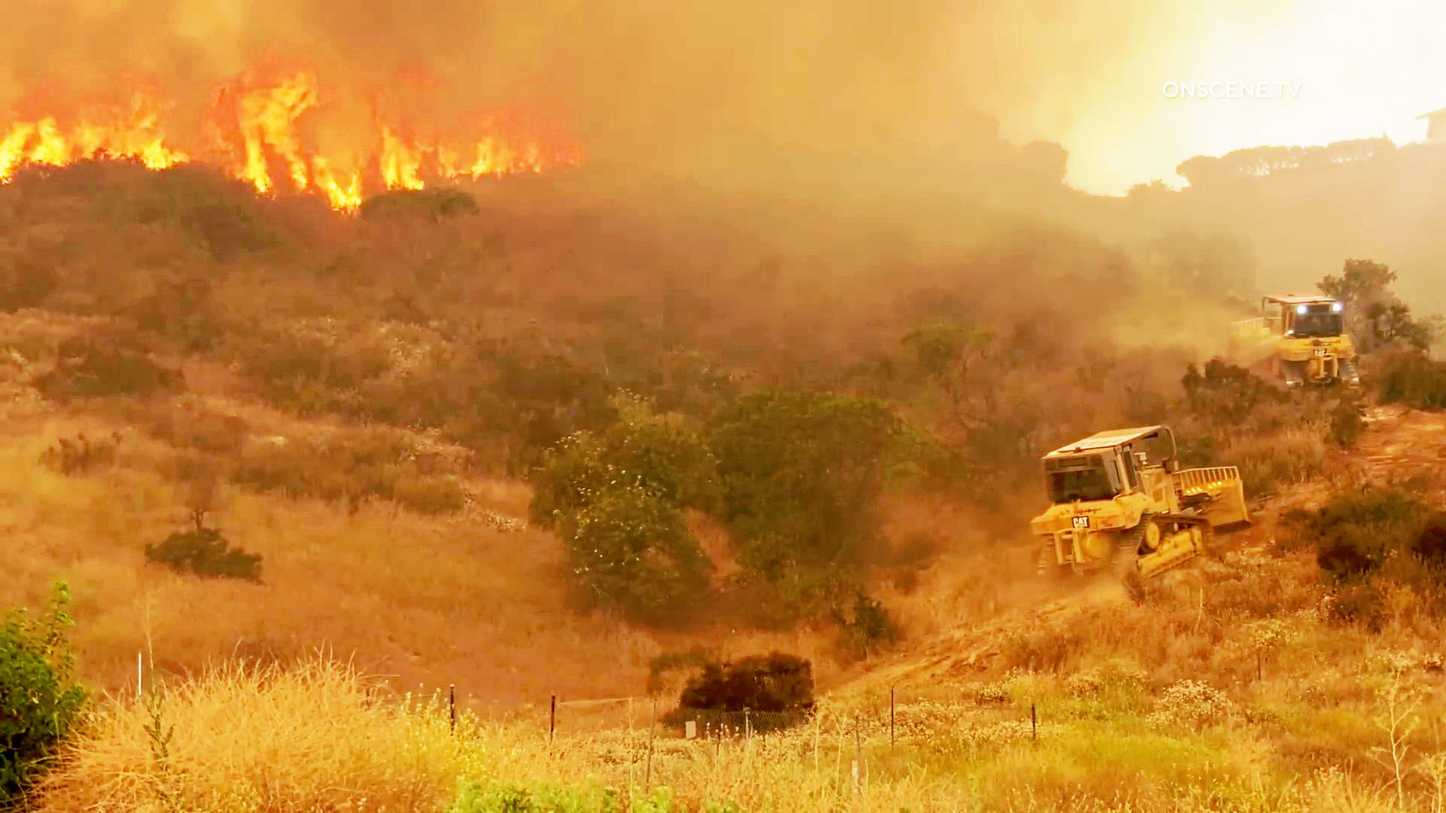fire: (0, 68, 577, 196)
smoke: (637, 14, 1011, 190)
